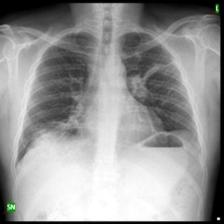tuberculosis: (10, 20, 208, 169)
